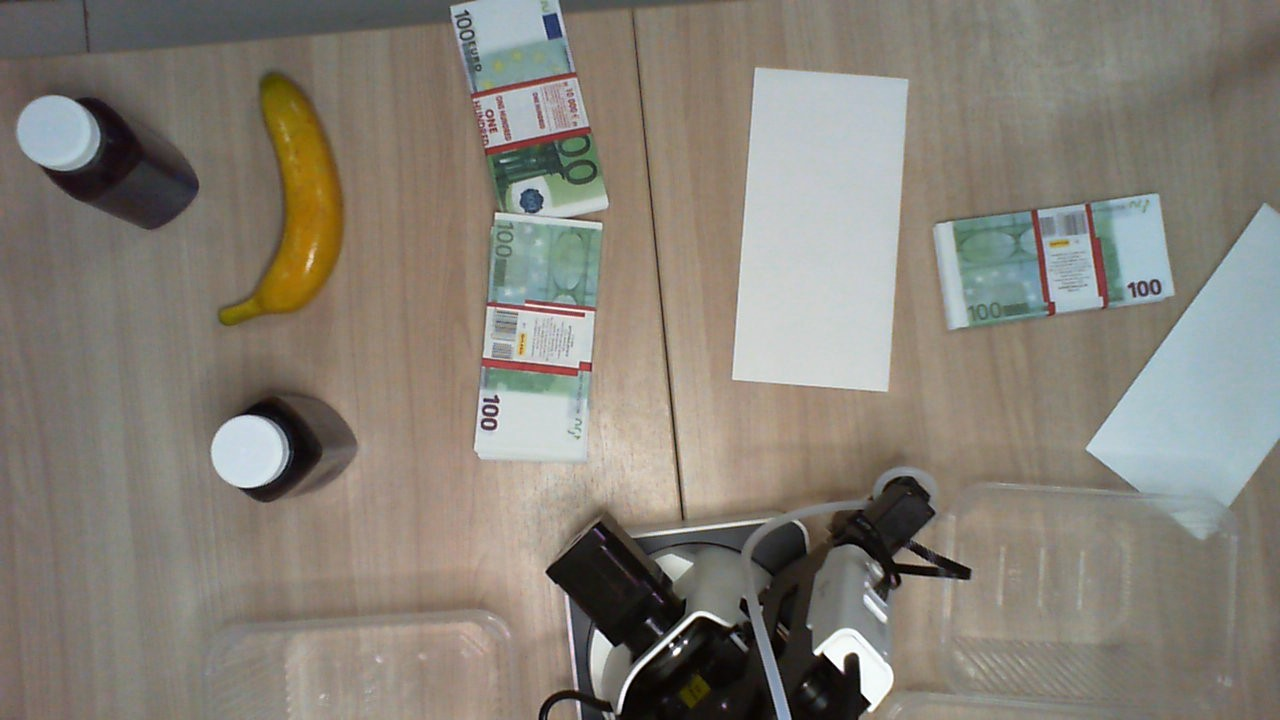banana: (218, 72, 345, 329)
bottle: (14, 90, 133, 210), (210, 400, 309, 505)
convert: (1083, 201, 1280, 535), (731, 67, 911, 393)
money: (448, 1, 606, 222), (471, 212, 605, 466), (930, 193, 1174, 331)
